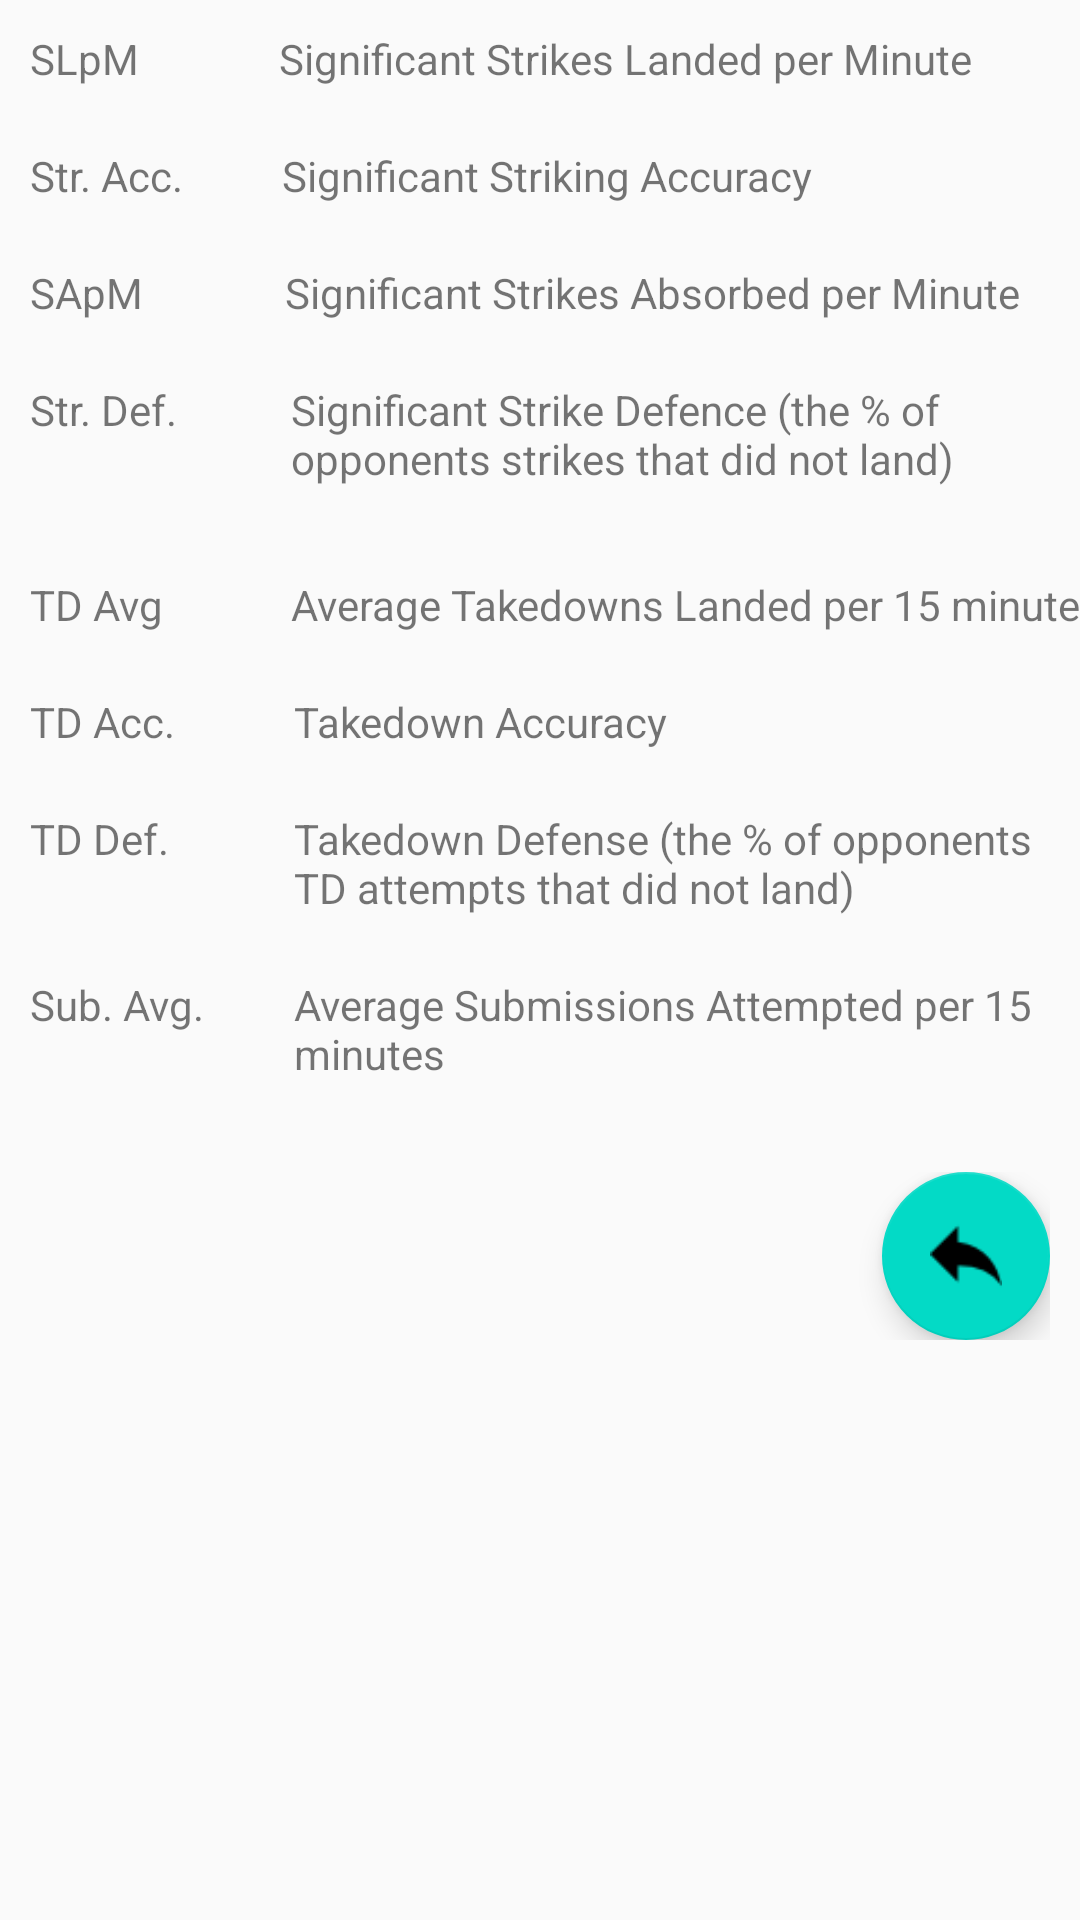

Screen size 1080x1920. Icon name, then its center in pixels as point (x, y):
back arrow: point (966, 1256)
